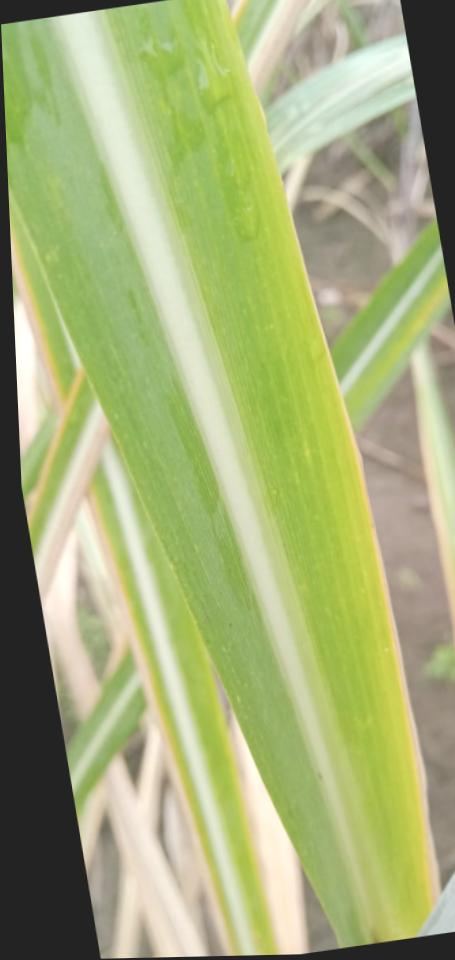Yellow: (203, 0, 432, 940), (344, 272, 448, 428), (27, 367, 84, 530)
